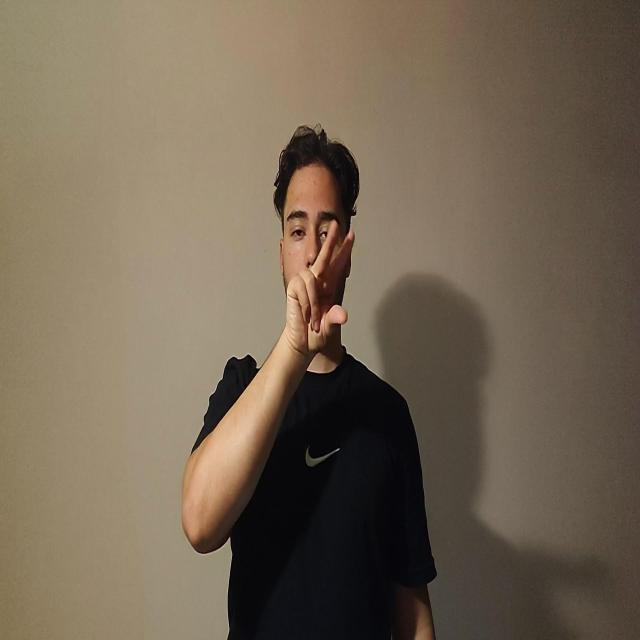no: (285, 219, 355, 357)
